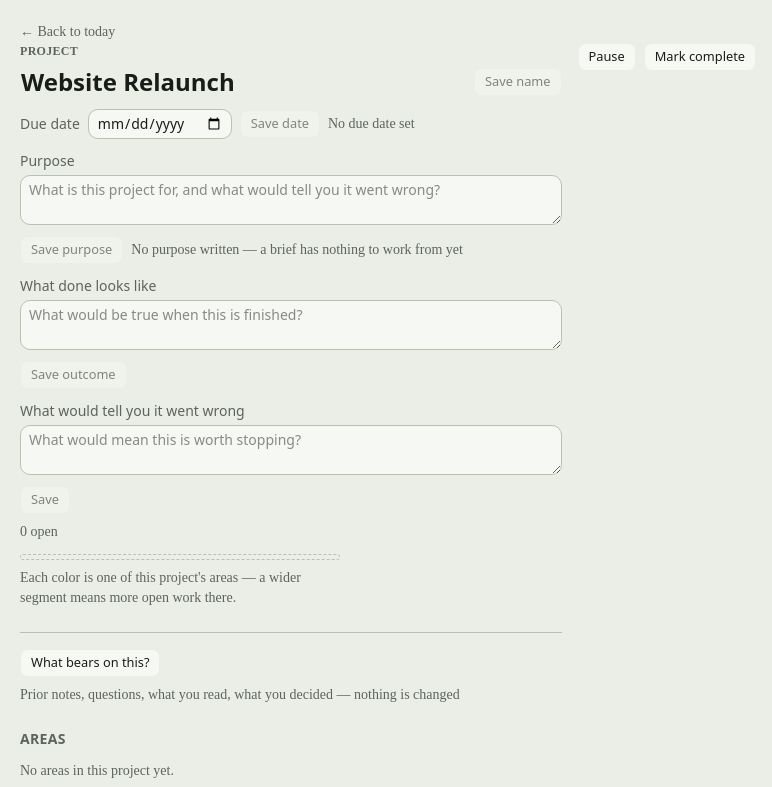
Test case: ProjectRoute › shows the evidence that selected each item
The width and height of the screenshot is (772, 787).
Check: the field showing "Website Relaunch" is shown, box [16,63,466,101]
Step 1. Click the button "What bears on this?" → (90, 663), box [20,649,160,677]
(page scrolled)
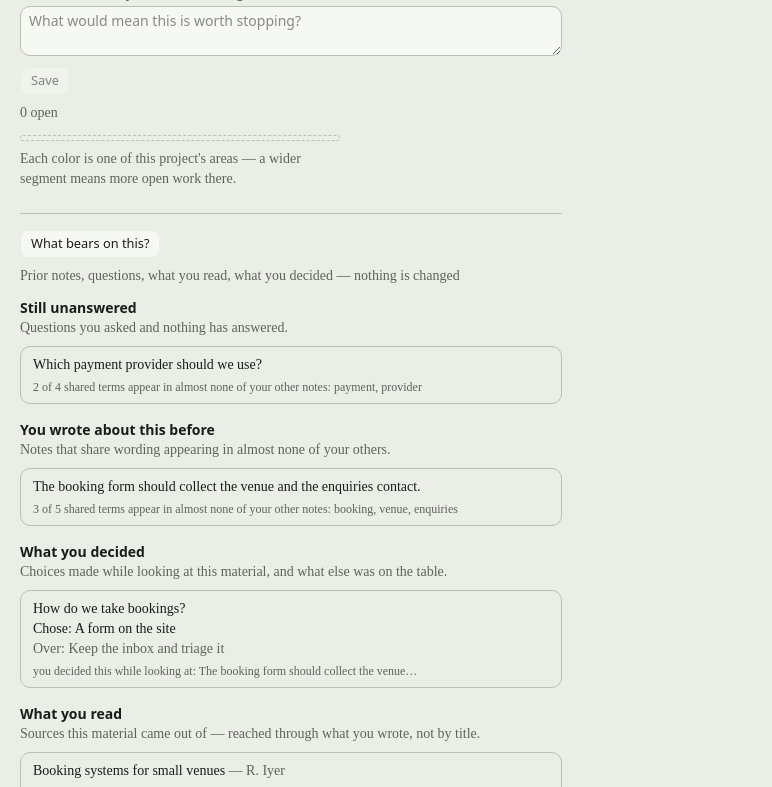
Check: the text "appear in almost none of your other notes" is shown 2 times, box [33,380,422,394]; [33,502,458,516]
Check: the text "appear in almost none of your other notes" shows "payment, provider", box [33,380,422,394]
